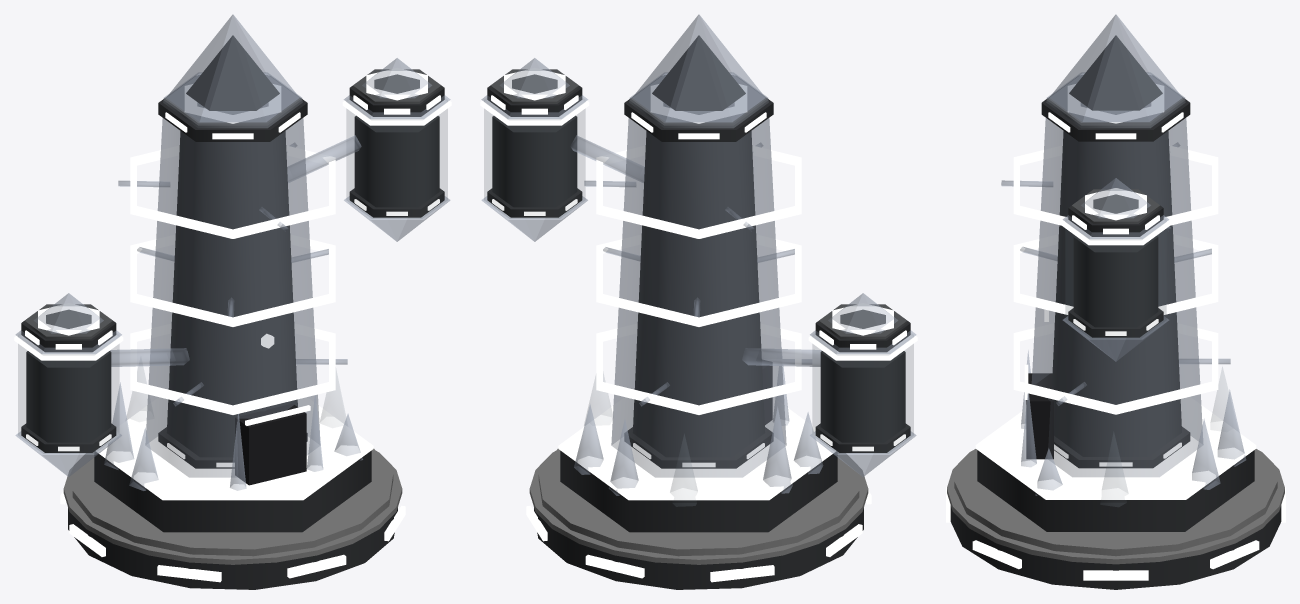
The model's file is Skin_Crystal_T2.glb.
3 views of the same model, side by side, from view 1: azimuth 30°, elevation 25°; view 2: azimuth 150°, elevation 25°; view 3: azimuth 270°, elevation 25° (orthographic).
Parts seen in each view (by area): view 1: Skin_Crystal_T2; view 2: Skin_Crystal_T2; view 3: Skin_Crystal_T2.
Part boxes in pixels (<box>): Skin_Crystal_T2: <box>14,14,451,589</box>; Skin_Crystal_T2: <box>480,14,917,589</box>; Skin_Crystal_T2: <box>946,14,1285,589</box>.
Size of the model in its own units: 5.12 by 6.04 by 3.68.
